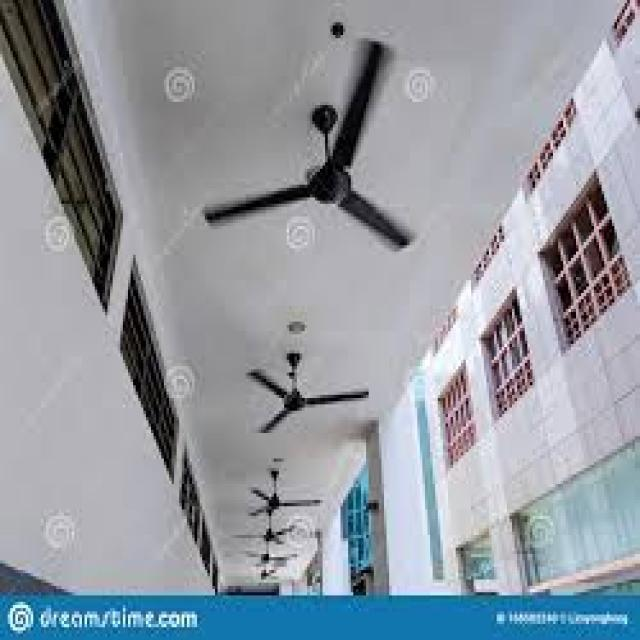fan_off: (203, 43, 417, 259), (247, 349, 370, 430), (250, 469, 326, 520), (232, 518, 304, 548), (236, 539, 296, 565), (253, 562, 289, 578)
